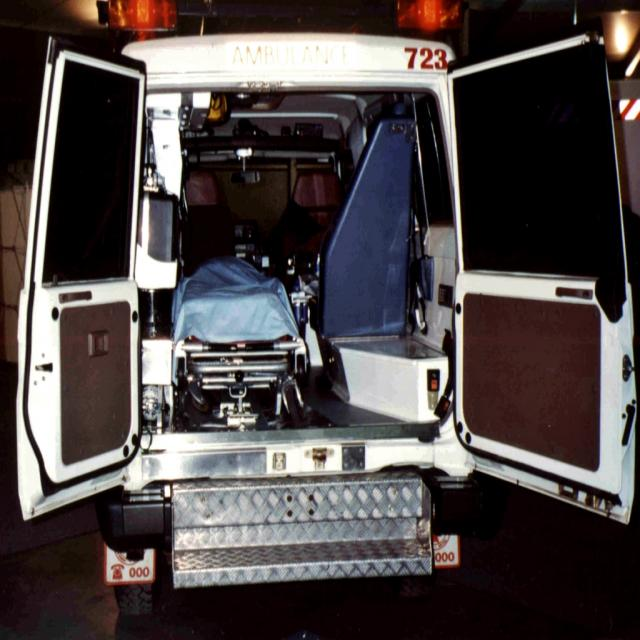Ambulance: (15, 28, 640, 610)
